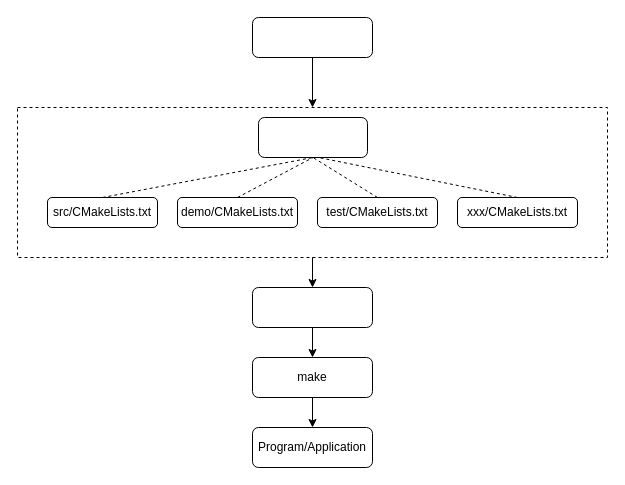
This 625x485 diagram has some shape labels left out. Here are the shapes that lost their labels. From the top down, the centre of each, then its label:
(312,37): cmake
(313,137): CMakeLists.txt
(312,307): Create Makefile
